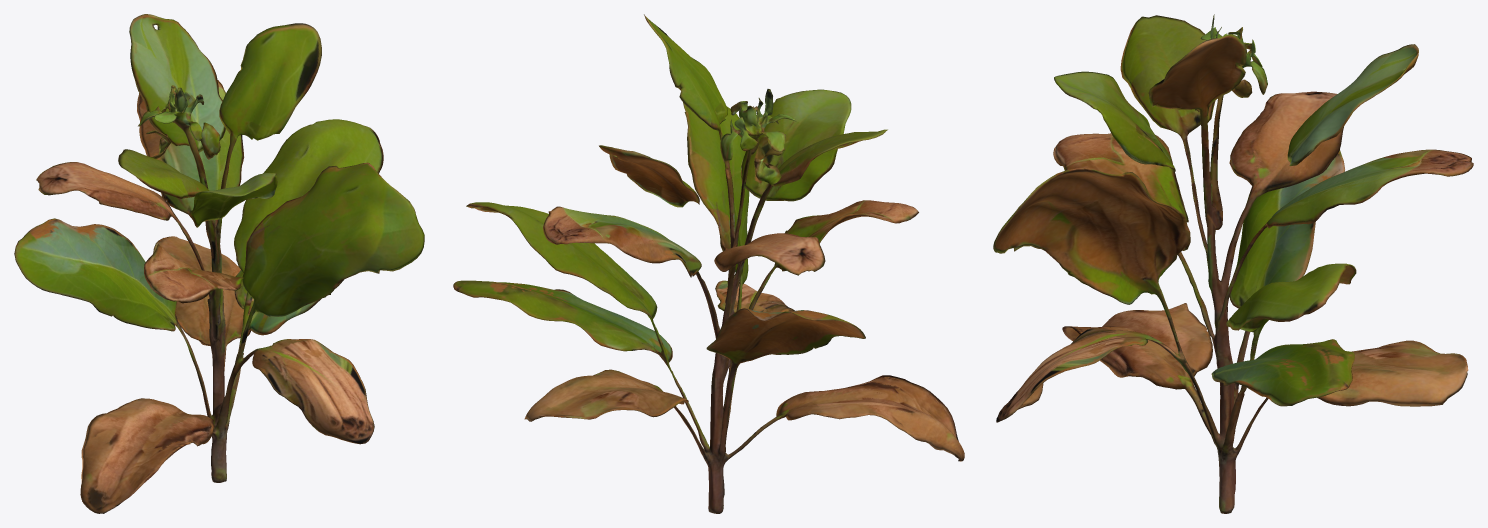
Rendered from Cinnamon.glb.
3 renders of one model, left to right at view 1: azimuth 30°, elevation 25°; view 2: azimuth 150°, elevation 25°; view 3: azimuth 270°, elevation 25°, orthographic. The views are drawn at different scales.
Size of the model in its own units: 1.84 by 2.02 by 1.71.
1 material, 1 textured.
